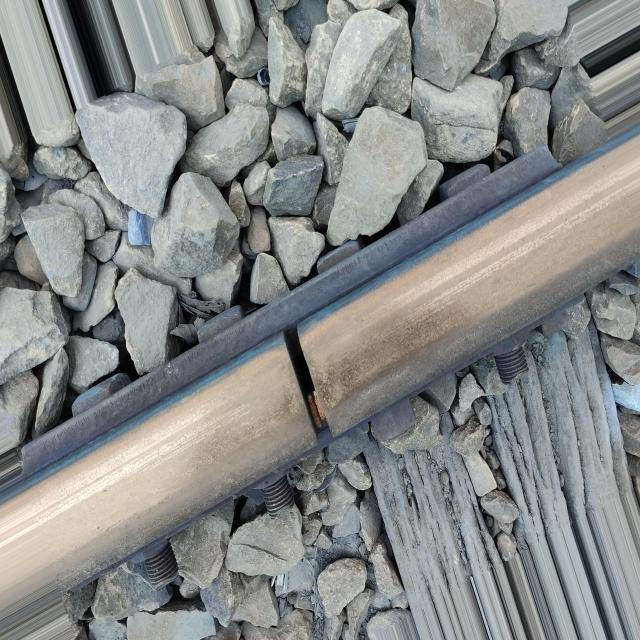Good Joint: (22, 139, 600, 594)
